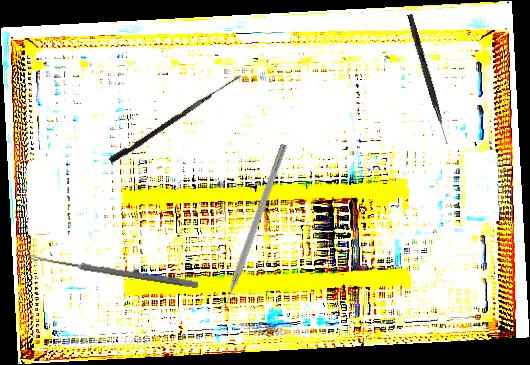Chopper: (210, 140, 288, 315)
Hook Surgical: (108, 69, 242, 166), (405, 13, 452, 146)
Surgical Spoon: (27, 253, 199, 289)
